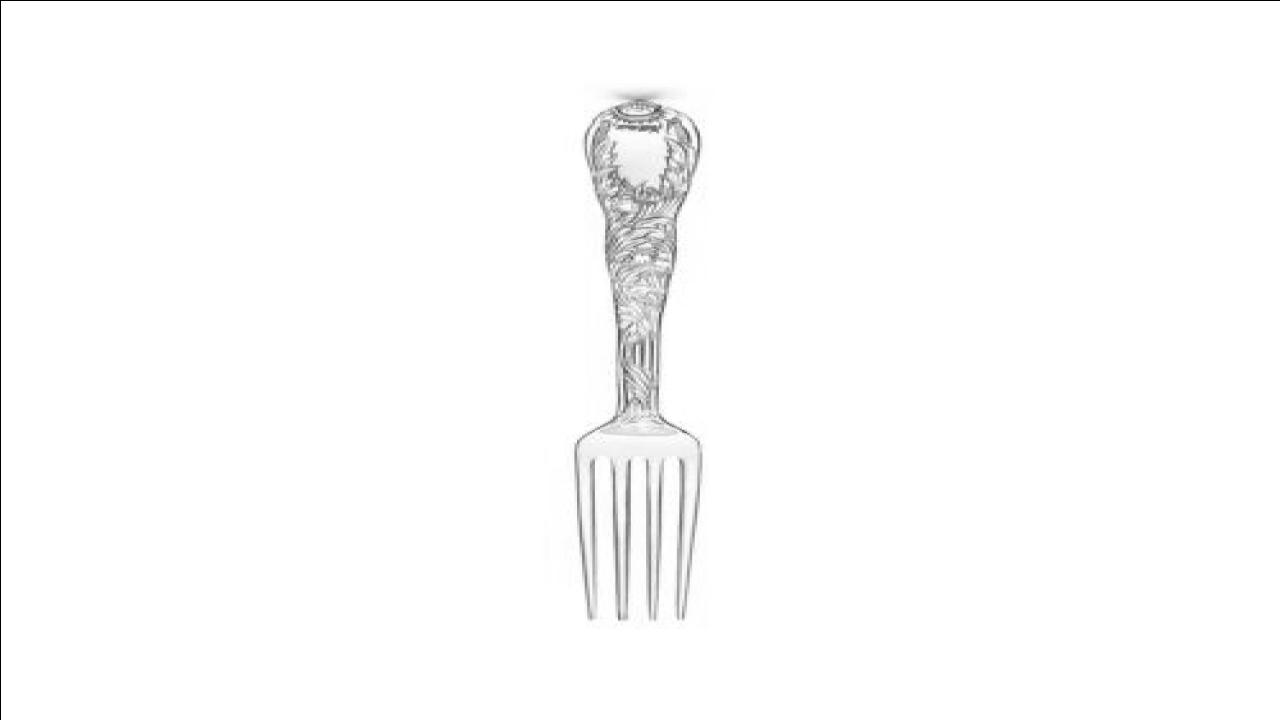fork: (574, 100, 706, 624)
